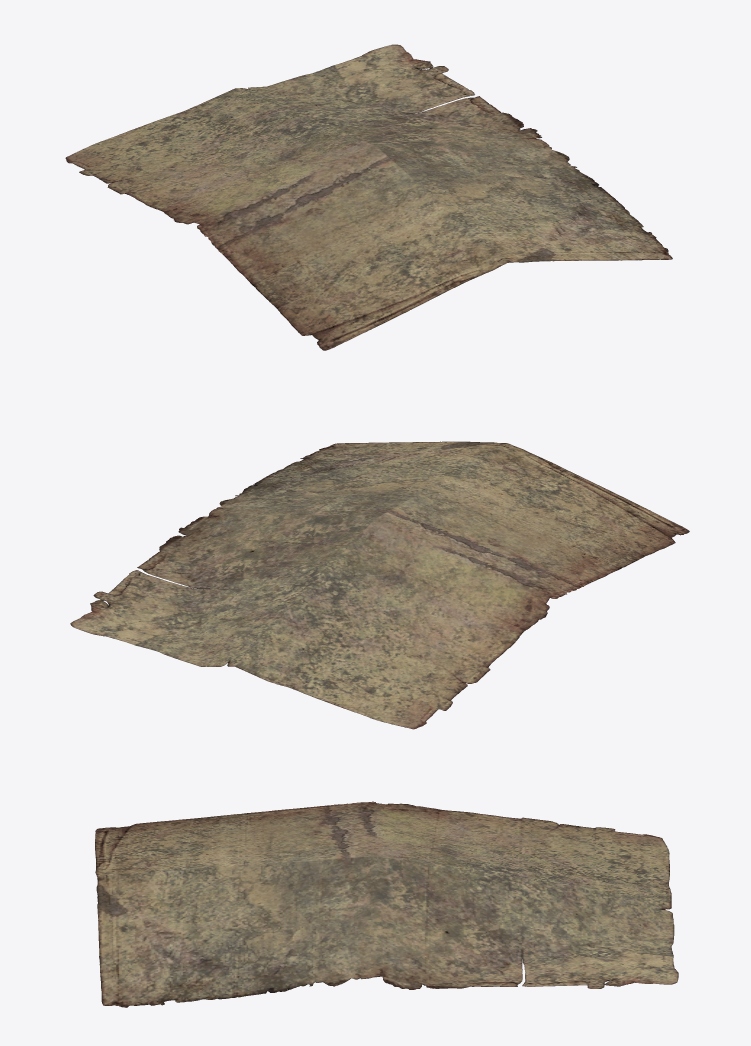
File: paperTrash05.FBX
3 renders of one model, top to bottom at view 1: azimuth 30°, elevation 25°; view 2: azimuth 150°, elevation 25°; view 3: azimuth 270°, elevation 25°, orthographic. The views are drawn at different scales.
Visible parts, largest first — view 1: SM_PaperTrash05; view 2: SM_PaperTrash05; view 3: SM_PaperTrash05.
Part boxes in pixels (x1,y1,x2,y2): SM_PaperTrash05: (65, 44, 672, 350); SM_PaperTrash05: (70, 441, 689, 729); SM_PaperTrash05: (95, 801, 678, 1007).
Bounding box in the file's own units: 18.53 × 3.66 × 28.88.
Materials: 1 (1 with a texture image).
